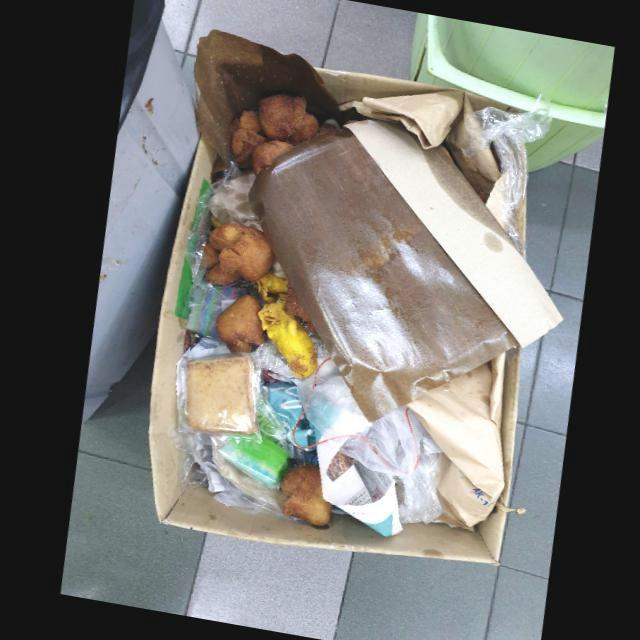left_over_food: (180, 352, 252, 434), (200, 223, 270, 286), (210, 294, 265, 355), (274, 463, 325, 527), (256, 94, 317, 145), (227, 110, 267, 169), (249, 140, 293, 176)
paper: (402, 352, 501, 529), (310, 435, 396, 537)
